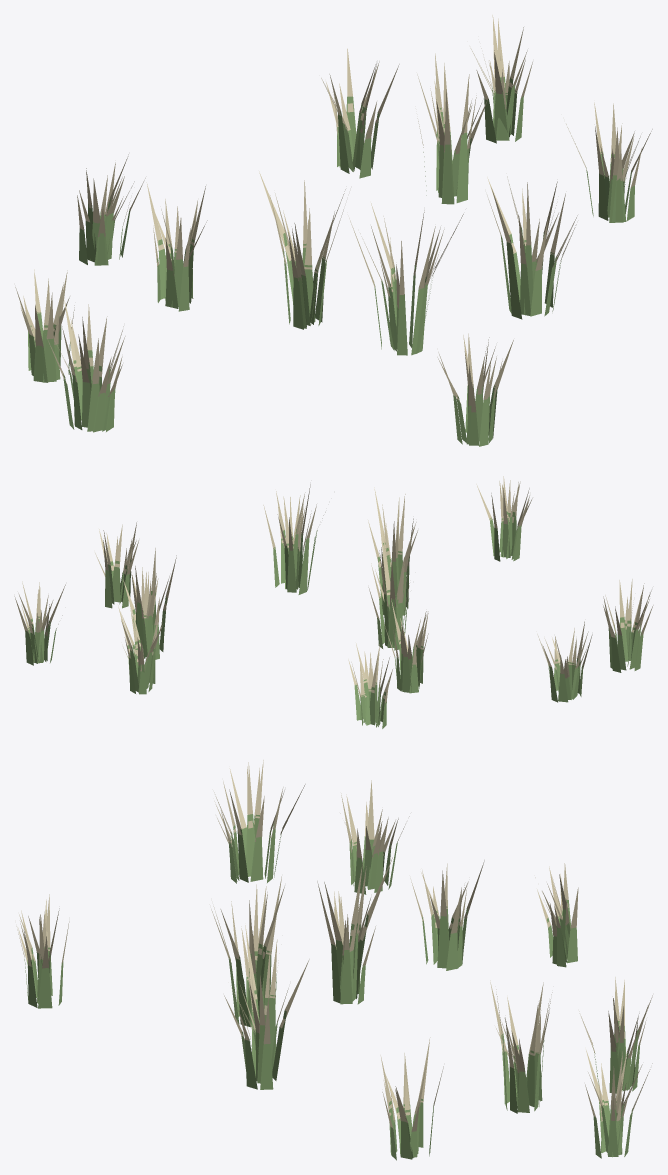
File: Blender_DuneGrass_1.glb
3 views of the same model, one above another, from view 1: azimuth 30°, elevation 25°; view 2: azimuth 150°, elevation 25°; view 3: azimuth 270°, elevation 25° (orthographic). The views are drawn at different scales.
Visible parts, largest first — view 1: Blender_DuneGrass_1; view 2: Blender_DuneGrass_1; view 3: Blender_DuneGrass_1.
Boxes of the visible parts, box(x1,y1,x2,y2) form: Blender_DuneGrass_1: box(15, 15, 652, 446); Blender_DuneGrass_1: box(14, 476, 653, 728); Blender_DuneGrass_1: box(16, 760, 652, 1160).
Bounding box in the file's own units: 4.07 × 0.8272 × 3.54.
